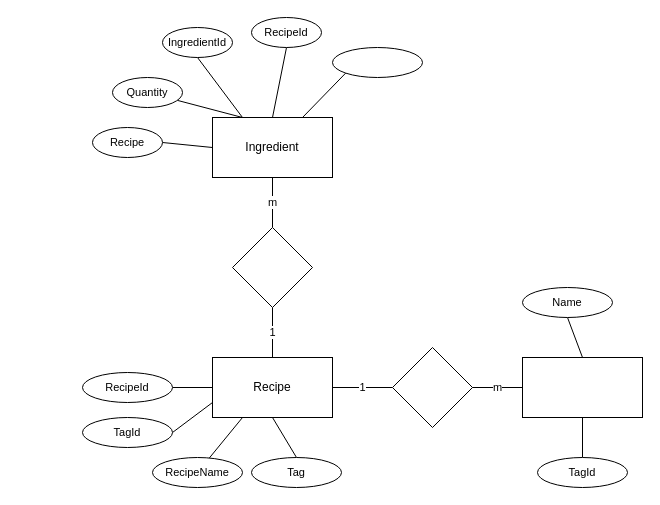
The diagram is 660 pixels wide and 505 high, and some of its shapes have lost their labels. The centre of each missing label's shape, as x and y in pixels:
"Contains" goes at pixel 272 267.
"Has" goes at pixel 432 387.
"IngredientName" goes at pixel 377 62.
"Tags" goes at pixel 582 387.
